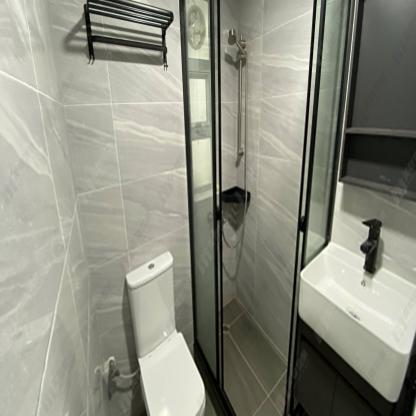Exhaust Fan: (184, 0, 209, 59)
Toilet: (125, 249, 205, 416)
Toilet Sink: (297, 241, 416, 403)
Water Cubicle: (179, 0, 357, 416)
